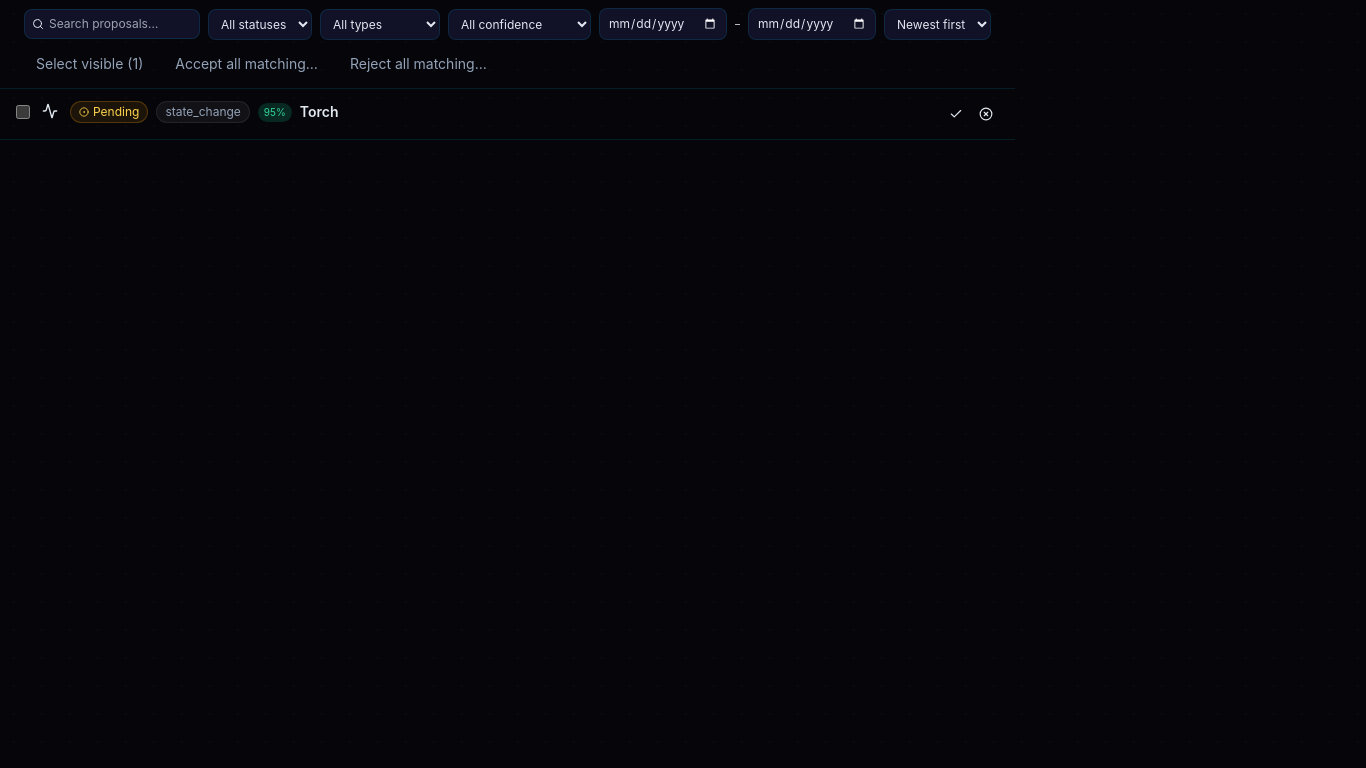
Scenario: ReviewWorkbench — detail drawer (F2-3b) › renders explicit Added/Removed sections for state_change payloads
What coordinates should you click on to do the following:
click the element with test id "review-row-s1"
I would click on:
 (508, 114)
Its box is [0,89,1015,140].
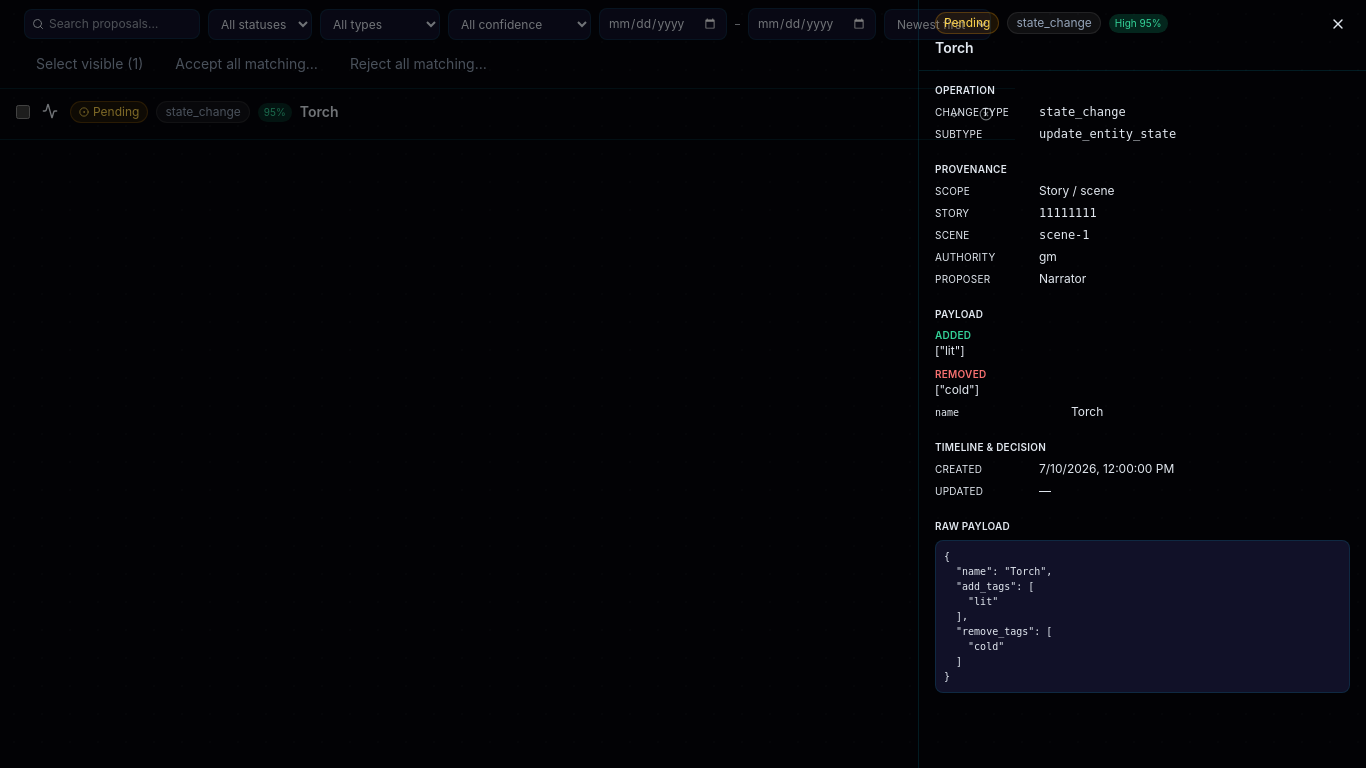
expect the heading "Payload" is shown: met, box [935,308,983,320]
expect the text "Added" is shown: met, box [935,329,971,341]
expect the text "[\"lit\"]" is shown: met, box [935,343,965,358]
